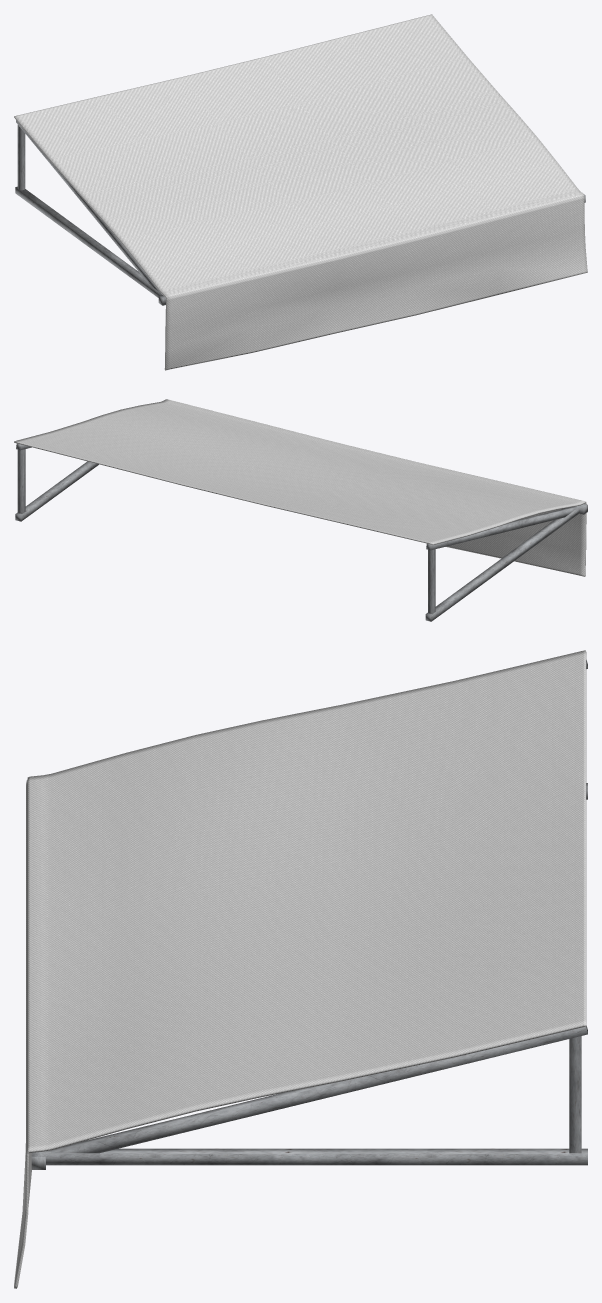
The model's file is Awning.FBX.
3 renders of one model, top to bottom at view 1: azimuth 30°, elevation 25°; view 2: azimuth 150°, elevation 25°; view 3: azimuth 270°, elevation 25°, orthographic. The views are drawn at different scales.
Visible parts, largest first — view 1: Awning; view 2: Awning; view 3: Awning.
Part boxes in pixels (box(x1,y1,x2,y2)): Awning: box(14, 14, 587, 370); Awning: box(14, 399, 587, 621); Awning: box(14, 650, 587, 1288).
Bounding box in the file's own units: 3.81 × 1.28 × 2.44.
